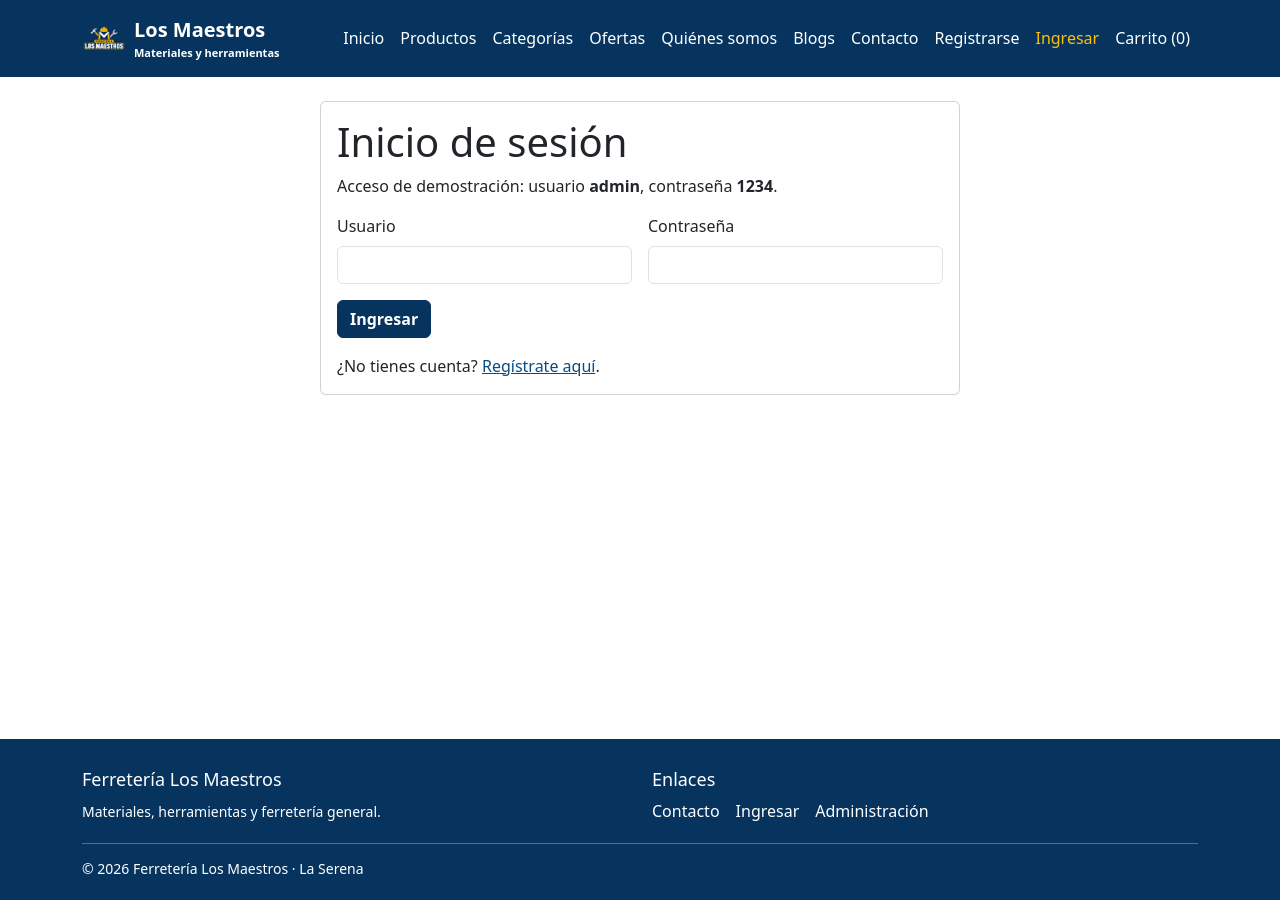
Scenario: App › permite iniciar sesión como admin y llegar al panel
Type "admin" into the field labelled "Usuario" at (484, 264), box [337,246,632,284]
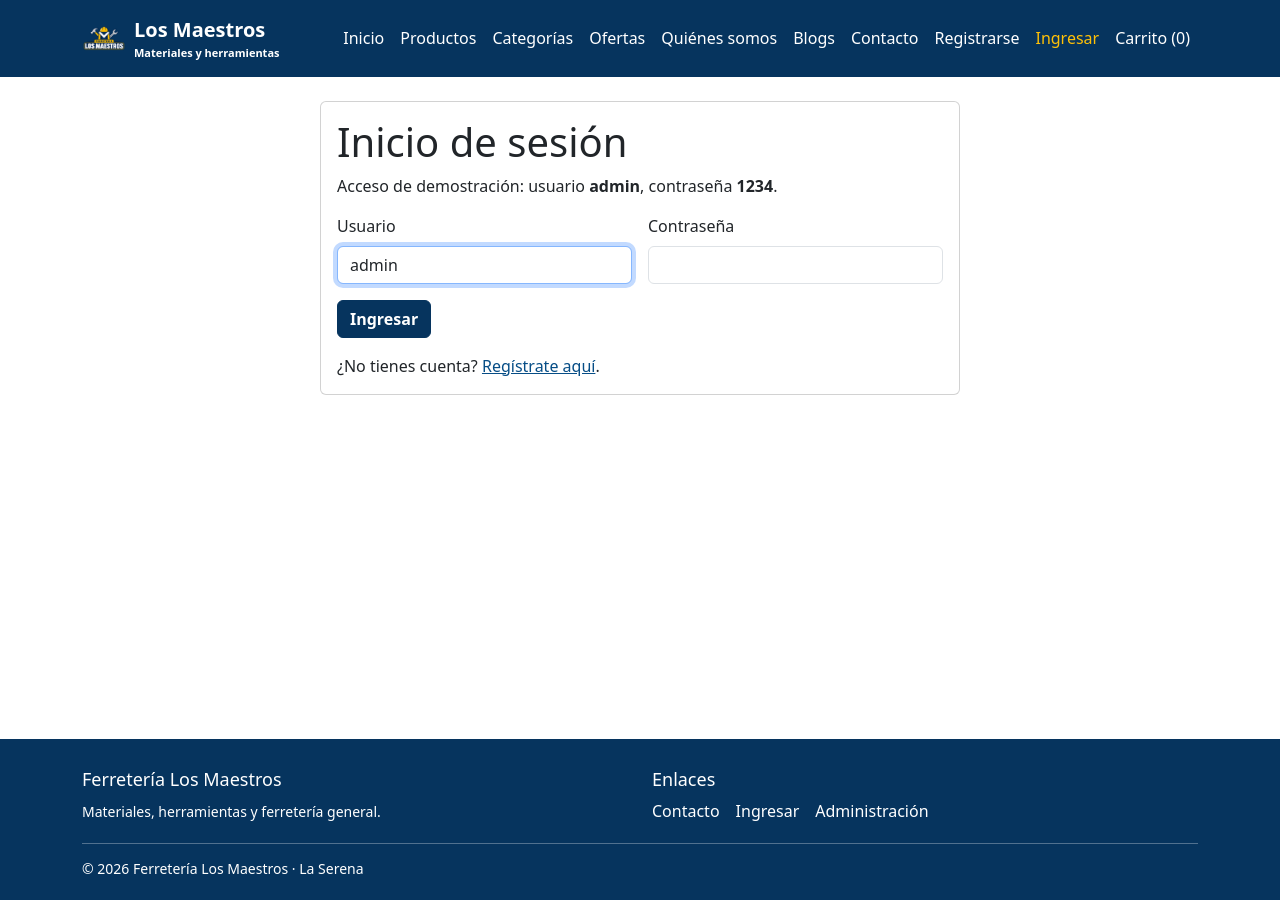
Type "1234" into the password field labelled "Contraseña" at (796, 264), box [648,246,943,284]
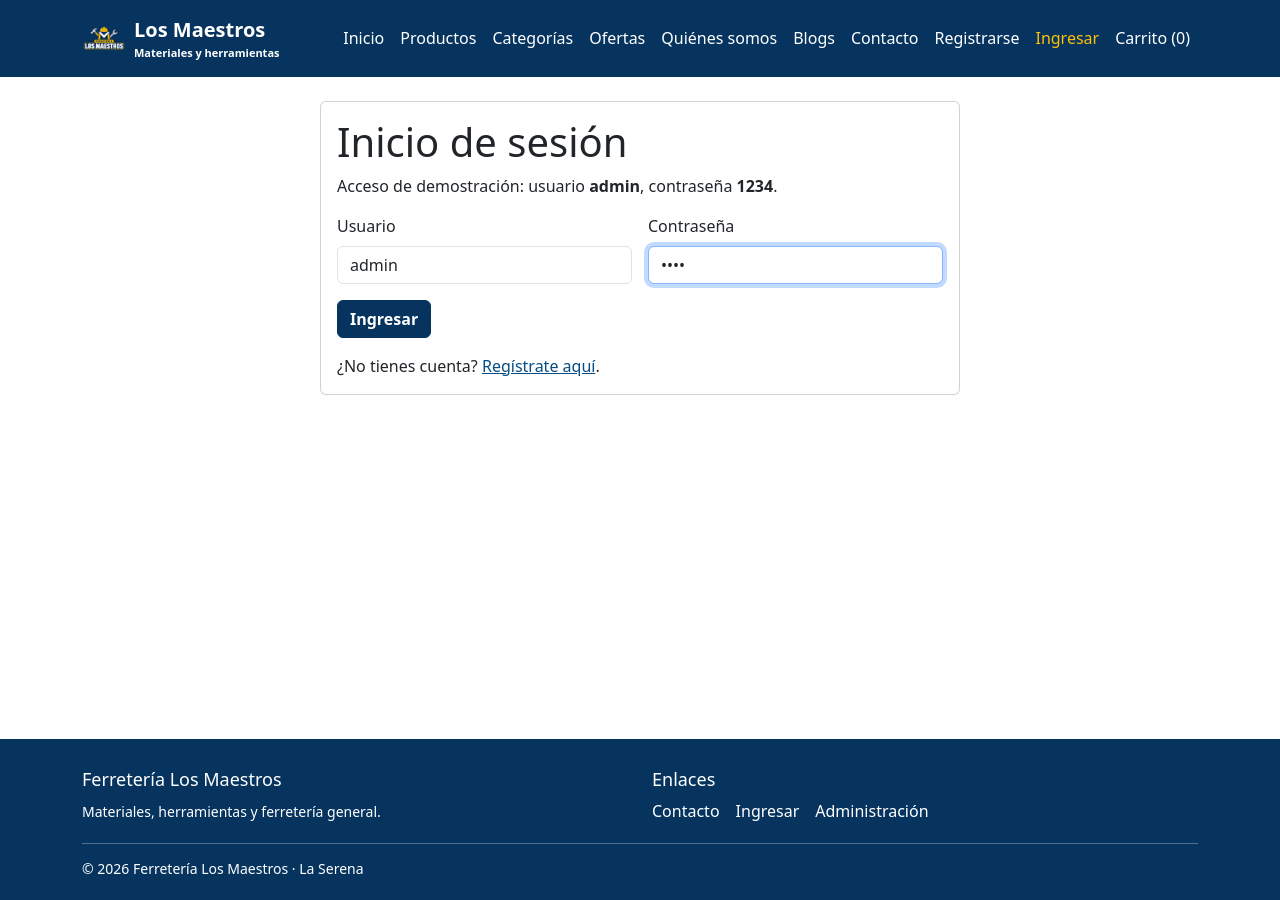
Click the button "Ingresar" at (384, 318), box [337,300,431,338]
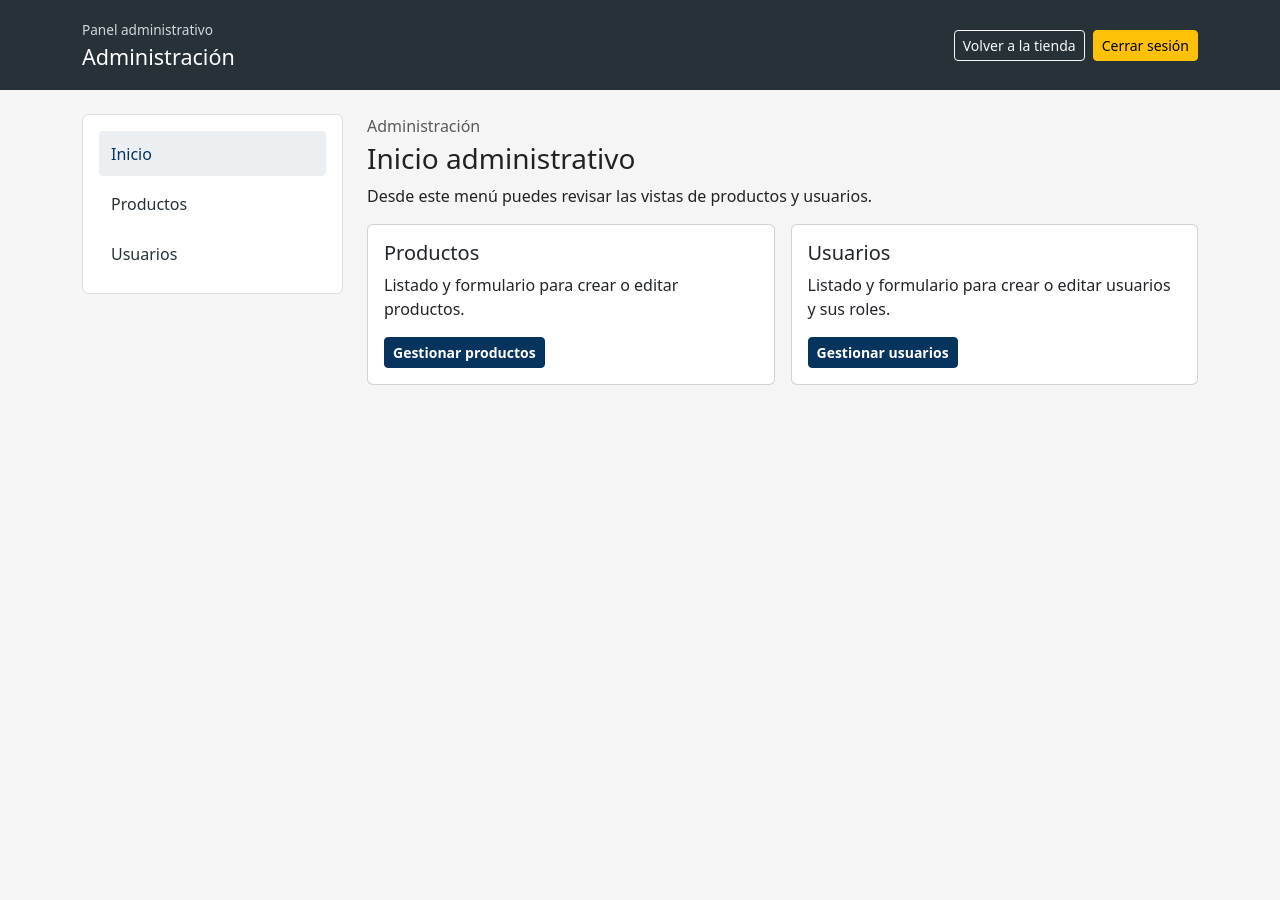
Check: the heading "Inicio administrativo" is shown, box [367,139,636,177]
